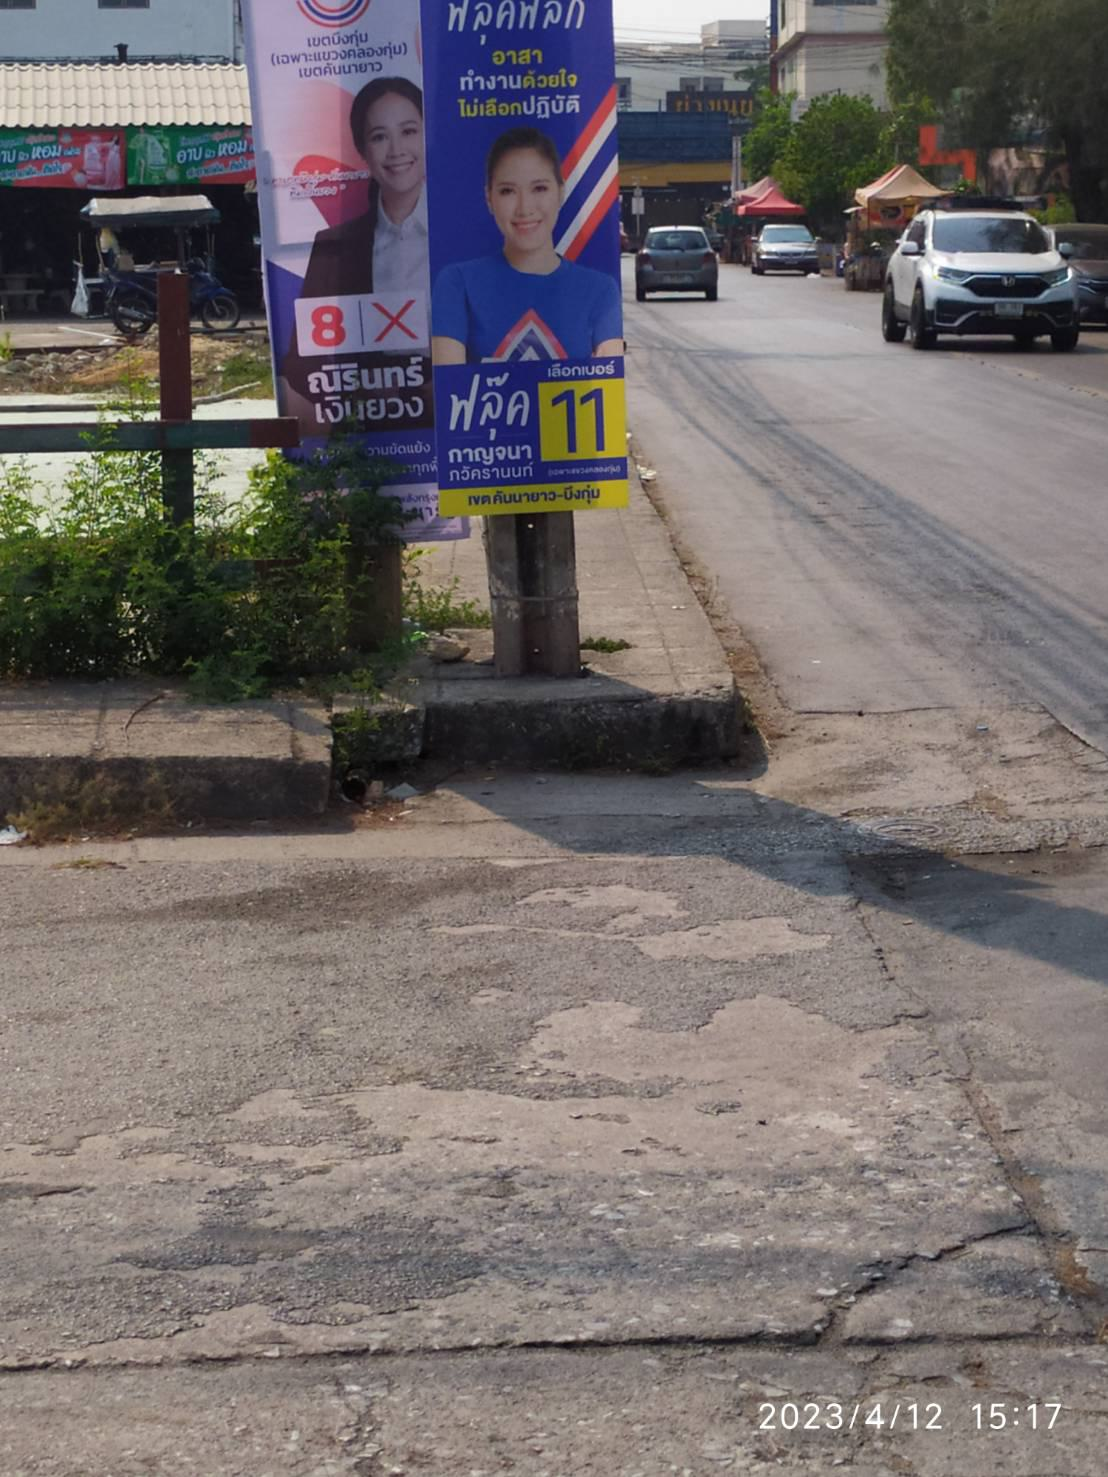Banner: (431, 0, 633, 525), (272, 0, 438, 548)
